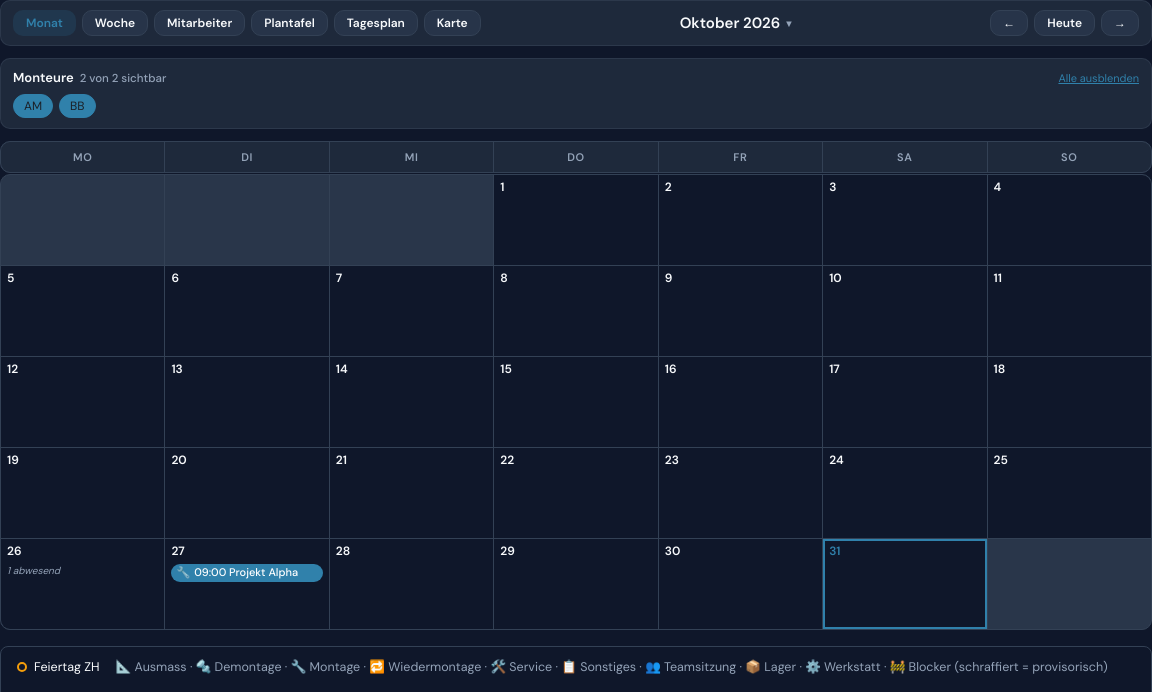
Test case: Ferien in allen Ansichten (§7) › Mitarbeiter-Ansicht: volles Label, Tagesspalte schraffiert — nur für den Fokussierten
The image size is (1152, 692).
Click the button "Mitarbeiter". click: click(200, 23)
box: [154,10,245,36]
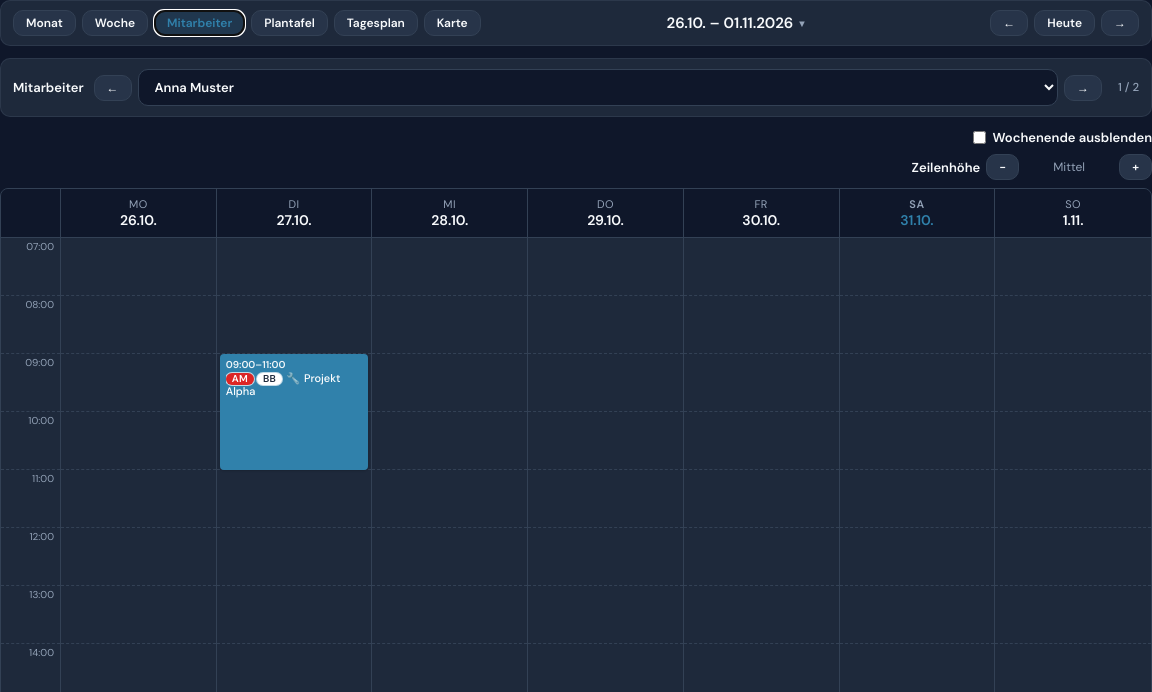
Expected: the text "Ferien 01.01.–01.01.2027" is not shown
Select "Beat Beispiel" in the dropdown. click: (598, 88)
box: [138,69,1058,106]
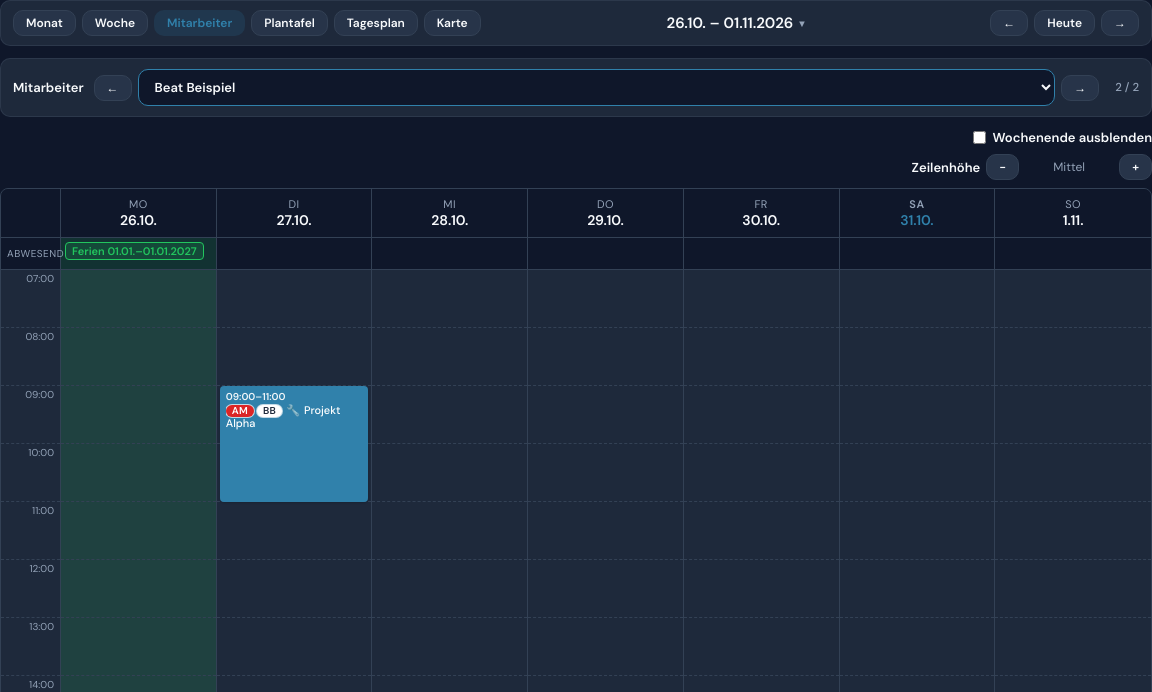
Expected: the text "Ferien 01.01.–01.01.2027" is shown, [65,242,204,260]
